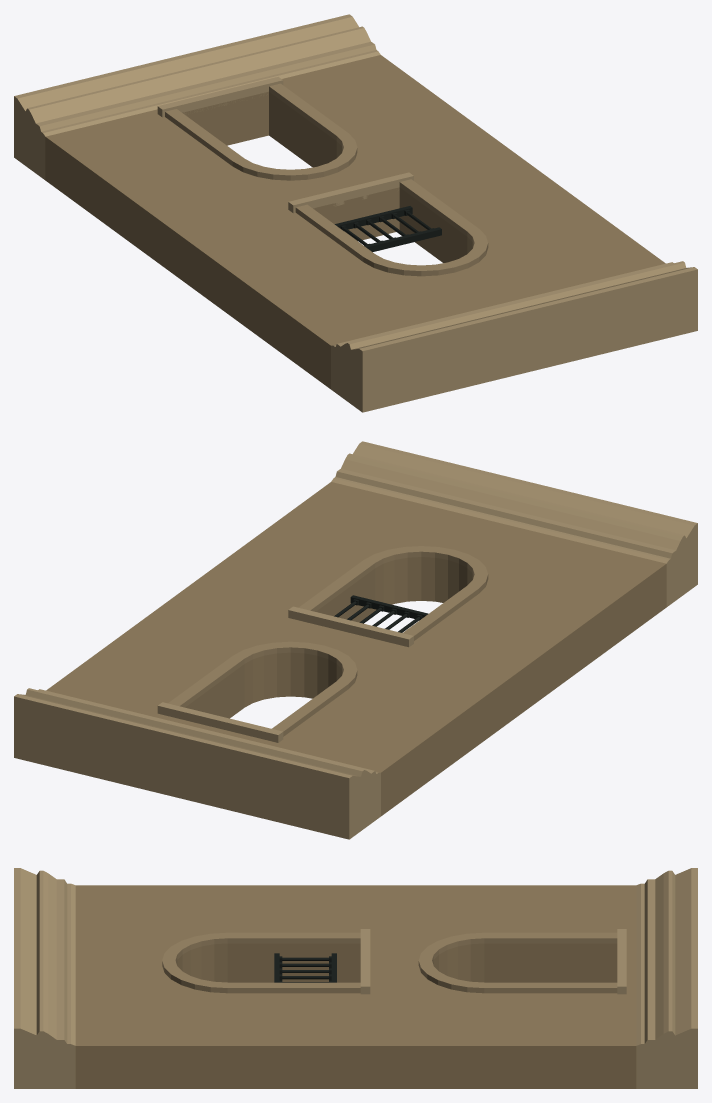
The model's file is T02_Double_Arch_Wall.obj.
3 views of the same model, one above another, from view 1: azimuth 30°, elevation 25°; view 2: azimuth 150°, elevation 25°; view 3: azimuth 270°, elevation 25° (orthographic).
Visible parts, largest first — view 1: T02_Double_Arch_Wall; view 2: T02_Double_Arch_Wall; view 3: T02_Double_Arch_Wall.
Boxes of the visible parts, x1,y1,x2,y2 form: T02_Double_Arch_Wall: (14, 14, 697, 412); T02_Double_Arch_Wall: (14, 441, 697, 839); T02_Double_Arch_Wall: (14, 868, 697, 1088).
Bounding box in the file's own units: 4 × 0.7 × 7.2.
